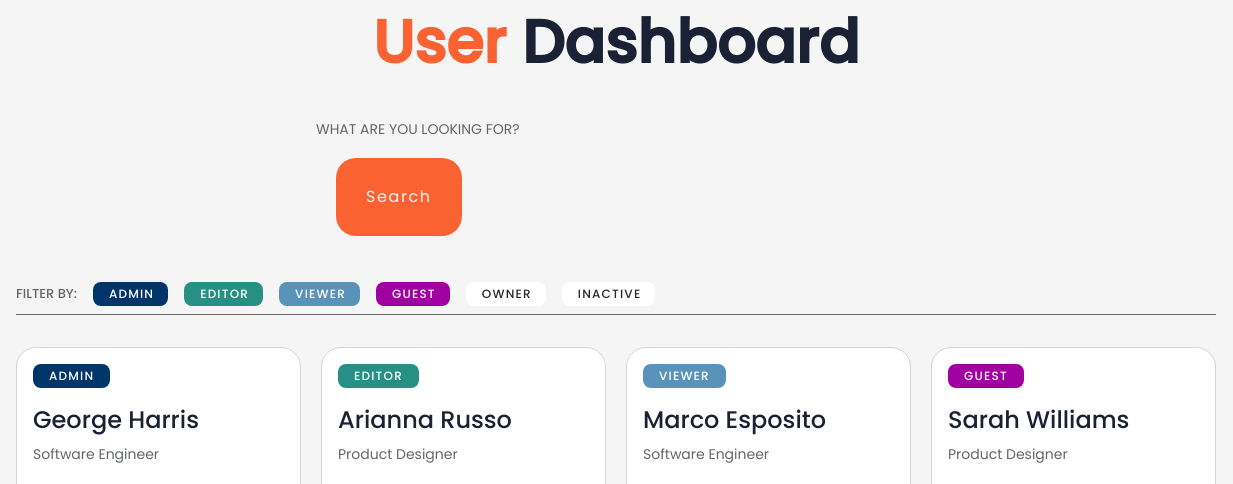
Test case: User Dashboard - Integration Tests › Filter Journey › user can select multiple permission filters
Expected: the heading "George Harris" is shown, [33,403,199,436]
// User clicks Admin filter
Click the button "ADMIN" at (131, 294), box [93,282,168,306]
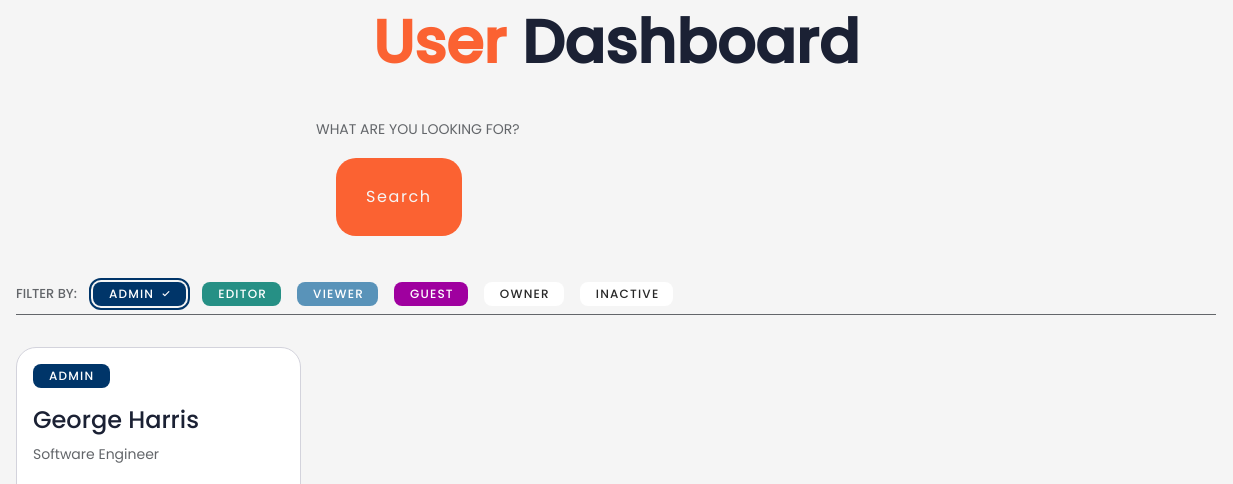
Expected: the heading "George Harris" is shown, [33,403,199,436]
// User also clicks Editor filter
Click the button "EDITOR" at (242, 294), box [202,282,281,306]
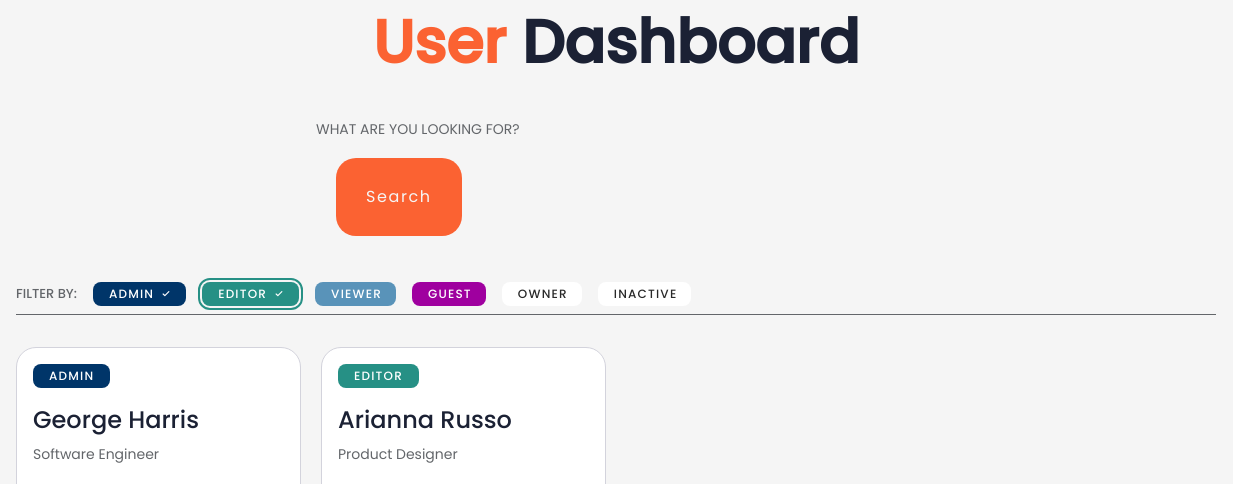
Expected: the heading "George Harris" is shown, [33,403,199,436]
Expected: the heading "Arianna Russo" is shown, [338,403,512,436]
